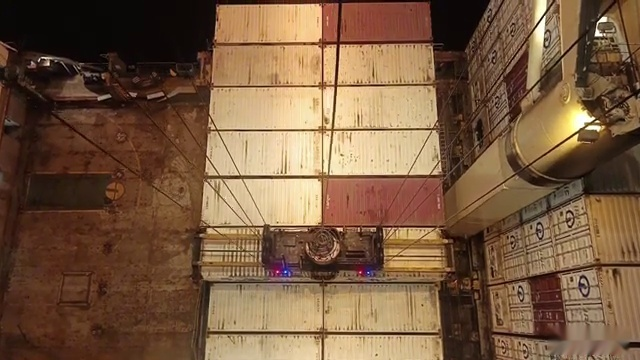container: (201, 225, 445, 283), (208, 279, 442, 333), (205, 127, 445, 175), (204, 179, 447, 225), (209, 84, 435, 127), (207, 331, 446, 360), (201, 339, 444, 357)
guide_mark: (65, 348, 560, 360), (112, 353, 545, 360)
spreader: (187, 222, 460, 282)
target_slot: (189, 219, 455, 287)
